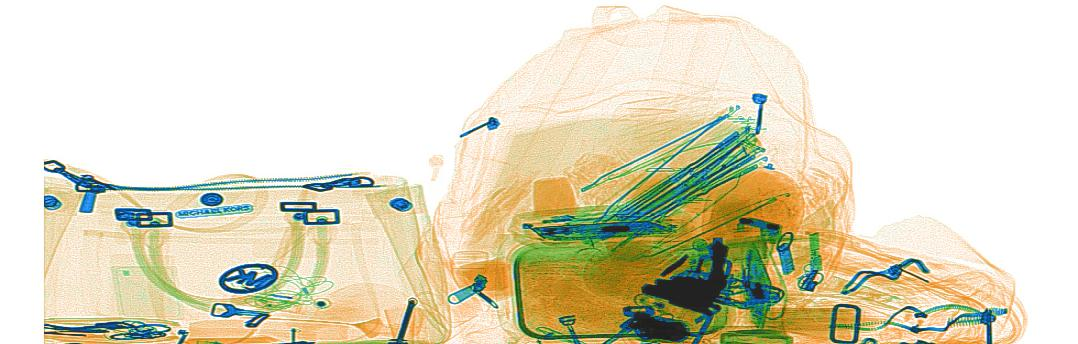USBFlashDisk: (807, 230, 825, 273)
